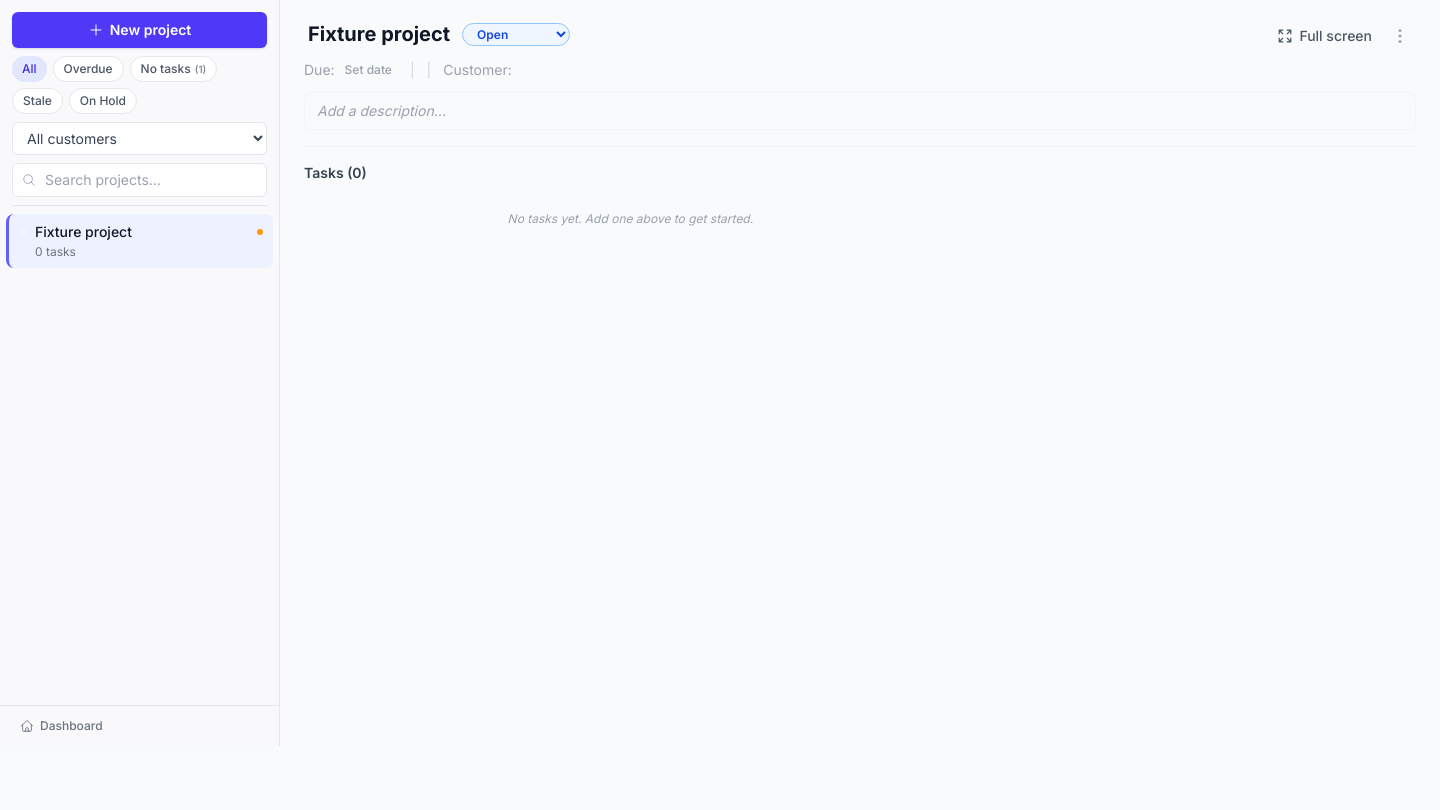
Test case: keeps a checked impact usable after a rejected save
The width and height of the screenshot is (1440, 810).
Select "Completed" in the dropdown named "Project status" at [516, 34], box [462,22,570,46]
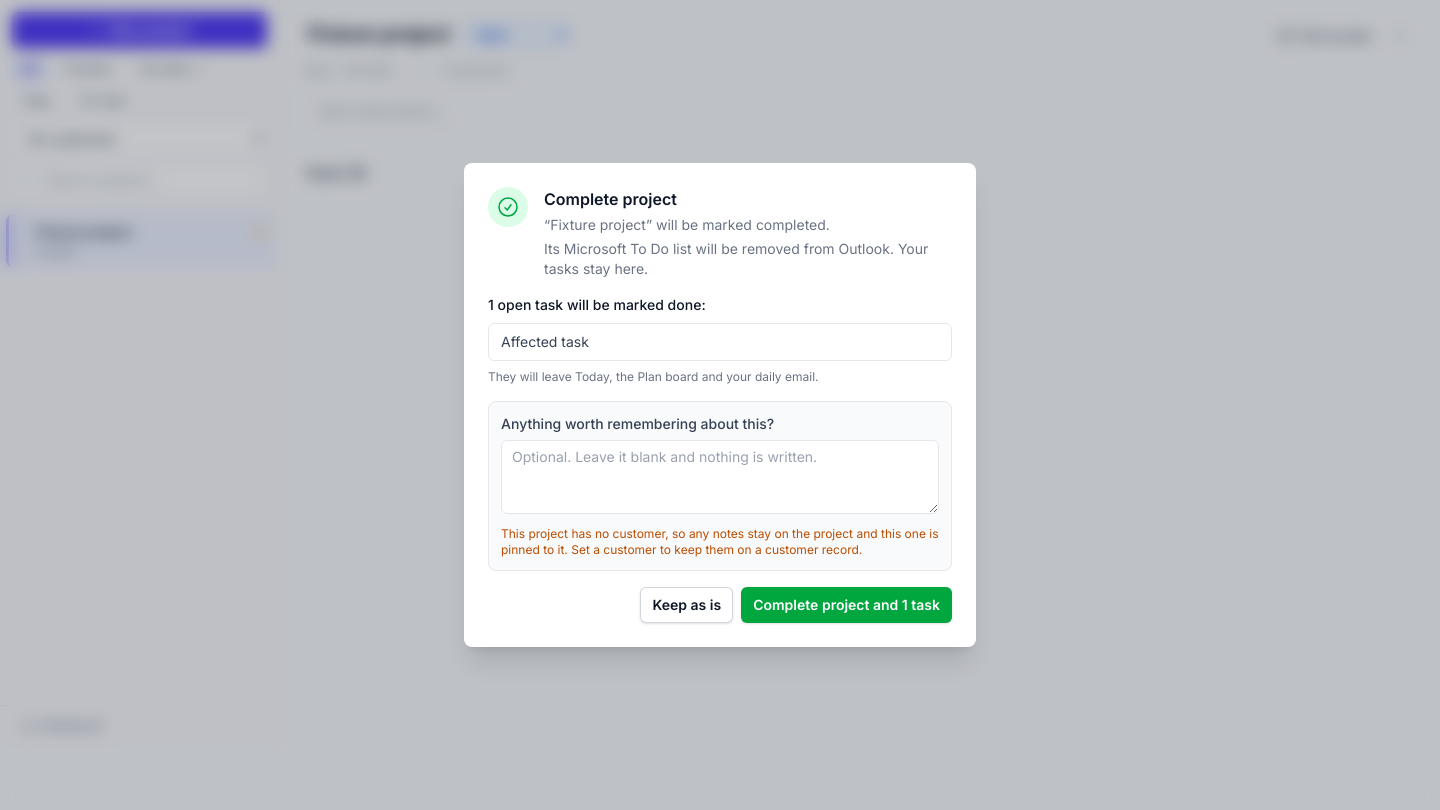
Click the button "Complete project and 1 task" at [847, 605], box [741,587,952,623]
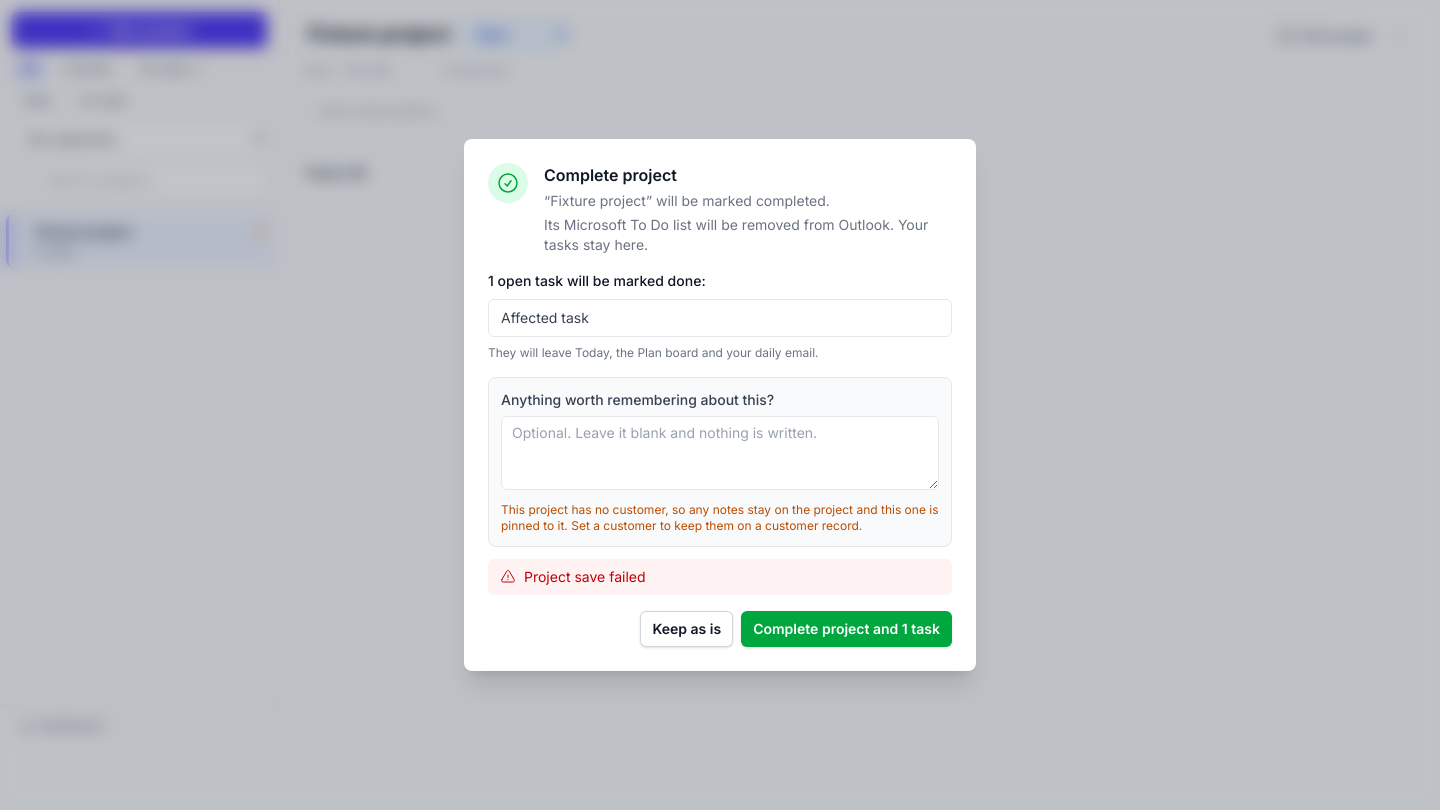
Now the text "Affected task" is shown, box [501,308,589,328]
Now the button "Complete project and 1 task" is enabled, box [741,611,952,647]
Now the text "Project save failed" is shown, box [524,567,646,587]
